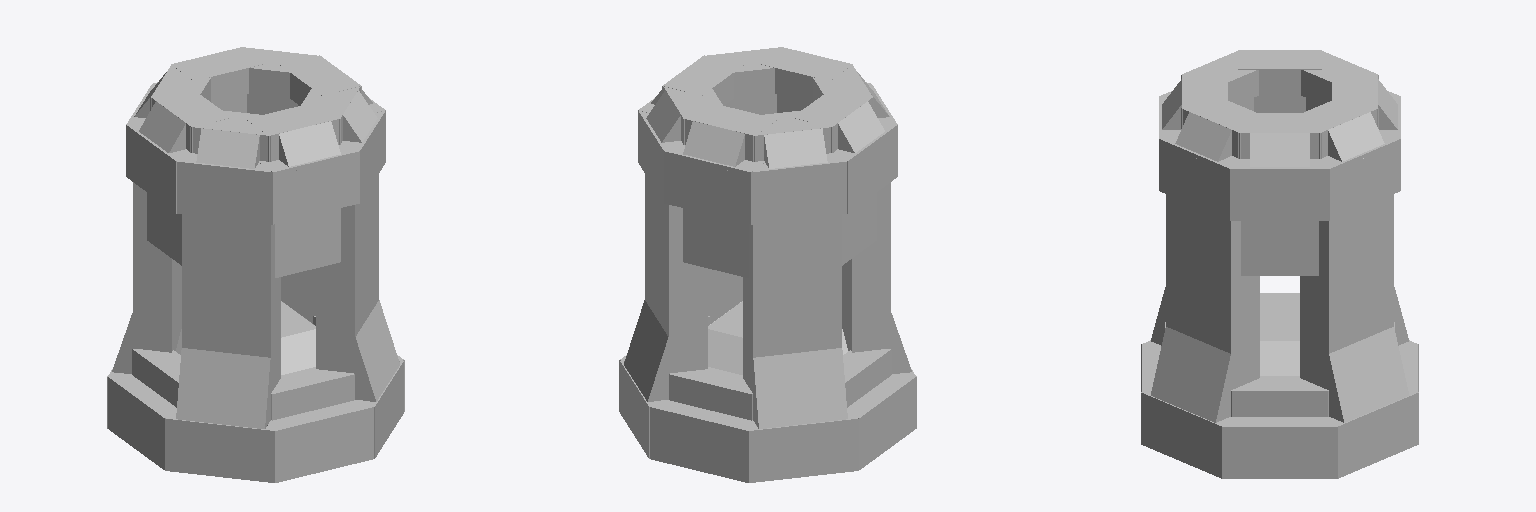
Rendered from generator_lit.obj.
The picture shows the model from 3 angles: view 1: azimuth 30°, elevation 25°; view 2: azimuth 150°, elevation 25°; view 3: azimuth 270°, elevation 25°; orthographic projection.
Parts seen in each view (by area): view 1: PoW0, PoS0, PoW1, PS0, PSW0, PoN0, CSW0, CS0, PW0, ScreenS, PS1, CW0 (+22 smaller); view 2: PoN0, PoE0, PoN1, PN0, PNW0, PoW0, CNW0, CN0, PW0, ScreenN, PN1, CW0 (+22 smaller); view 3: PoS0, PoE0, PE0, CE0, PoS1, PoE1, PNE0, PSE0, ScreenE, CSE0, CNE0, PE1 (+18 smaller).
Part boxes in pixels (x1,y1,x2,y2): PoW0: (182, 215, 280, 392); PoS0: (316, 174, 378, 373); PoW1: (176, 348, 270, 428); PS0: (267, 400, 374, 482); PSW0: (165, 416, 274, 482); PoN0: (133, 182, 181, 352); CSW0: (177, 157, 272, 224); CS0: (259, 141, 359, 224); PW0: (107, 373, 176, 469); ScreenS: (275, 208, 340, 277); PS1: (271, 367, 354, 420); CW0: (126, 120, 196, 213); PoN0: (743, 215, 841, 392); PoE0: (645, 174, 707, 373); PoN1: (753, 348, 847, 428); PN0: (649, 400, 756, 482); PNW0: (749, 416, 858, 482); PoW0: (842, 182, 890, 352); CNW0: (751, 157, 846, 224); CN0: (664, 141, 764, 224); PW0: (847, 373, 916, 469); ScreenN: (683, 208, 748, 277); PN1: (669, 367, 752, 420); CW0: (827, 120, 897, 213); PoS0: (1166, 194, 1259, 389); PoE0: (1300, 194, 1393, 389); PE0: (1222, 417, 1337, 478); CE0: (1230, 156, 1329, 220); PoS1: (1151, 327, 1230, 422); PoE1: (1329, 327, 1408, 422); PNE0: (1338, 392, 1418, 478); PSE0: (1141, 392, 1221, 478); ScreenE: (1241, 221, 1318, 275); CSE0: (1159, 139, 1229, 220); CNE0: (1330, 139, 1400, 220); PE1: (1232, 376, 1327, 416).
Bounding box in the file's own units: 3.01 × 3.94 × 3.01.